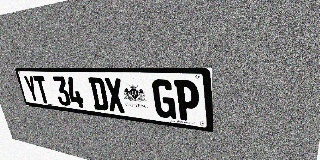3: (52, 76, 72, 106)
4: (65, 77, 85, 108)
D: (88, 77, 109, 111)
G: (151, 79, 176, 119)
P: (174, 80, 200, 122)
T: (33, 76, 51, 104)
X: (104, 78, 126, 113)
Y: (23, 75, 40, 103)
